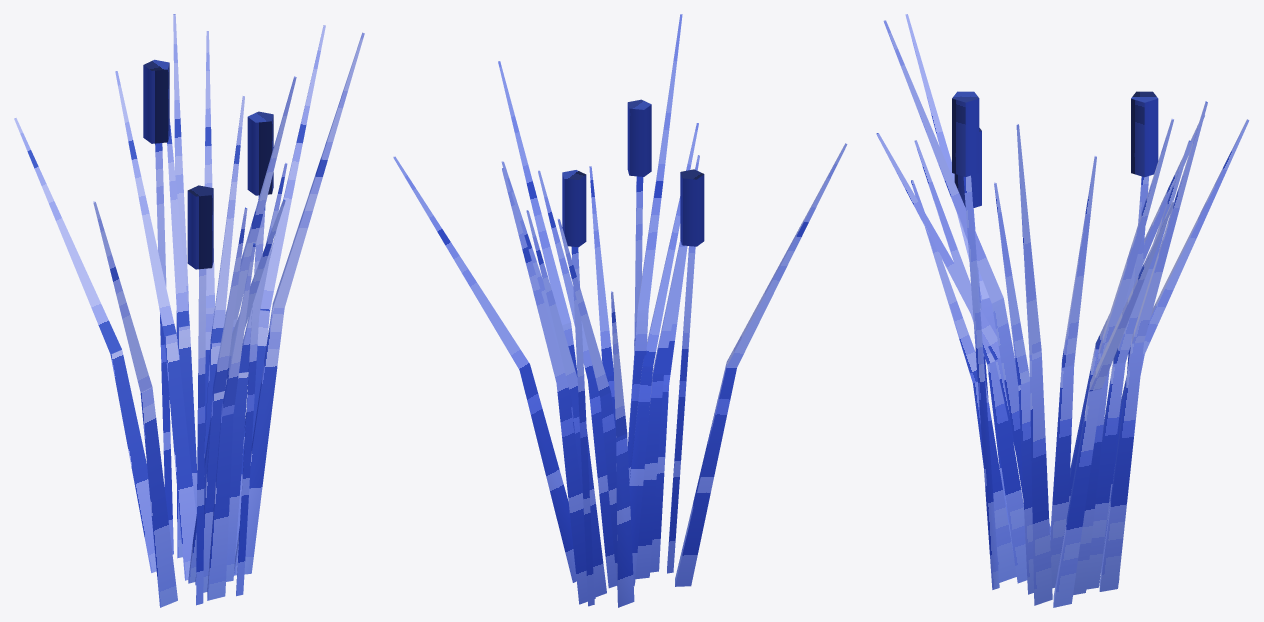
File: lake.reeds.glb
3 views of the same model, side by side, from view 1: azimuth 30°, elevation 25°; view 2: azimuth 150°, elevation 25°; view 3: azimuth 270°, elevation 25° (orthographic). The views are drawn at different scales.
Visible parts, largest first — view 1: kit_reeds, kit_cattails; view 2: kit_reeds, kit_cattails; view 3: kit_reeds, kit_cattails.
Part boxes in pixels (bbox=[...]): kit_reeds: bbox=[14, 14, 364, 607]; kit_cattails: bbox=[143, 59, 273, 605]; kit_reeds: bbox=[393, 14, 847, 607]; kit_cattails: bbox=[562, 99, 704, 606]; kit_reeds: bbox=[876, 14, 1249, 607]; kit_cattails: bbox=[952, 91, 1158, 589].
Bounding box in the file's own units: 1.04 × 1.53 × 0.907.
2 materials, 2 textured.
